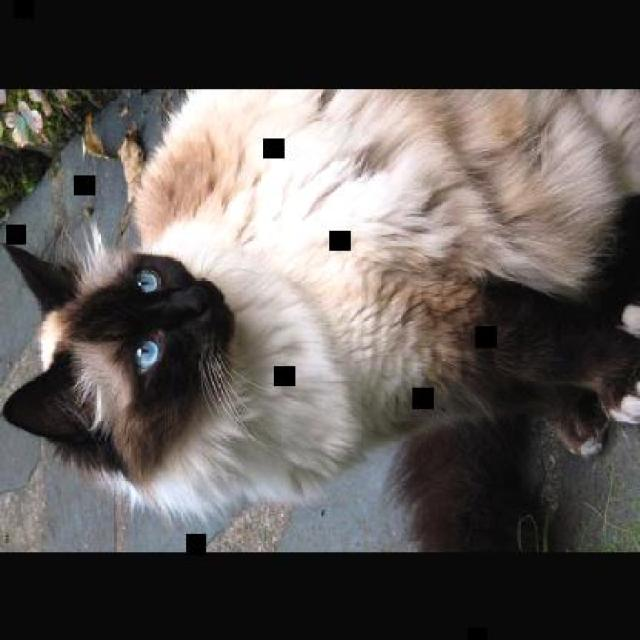unauthorized: (0, 86, 638, 549)
